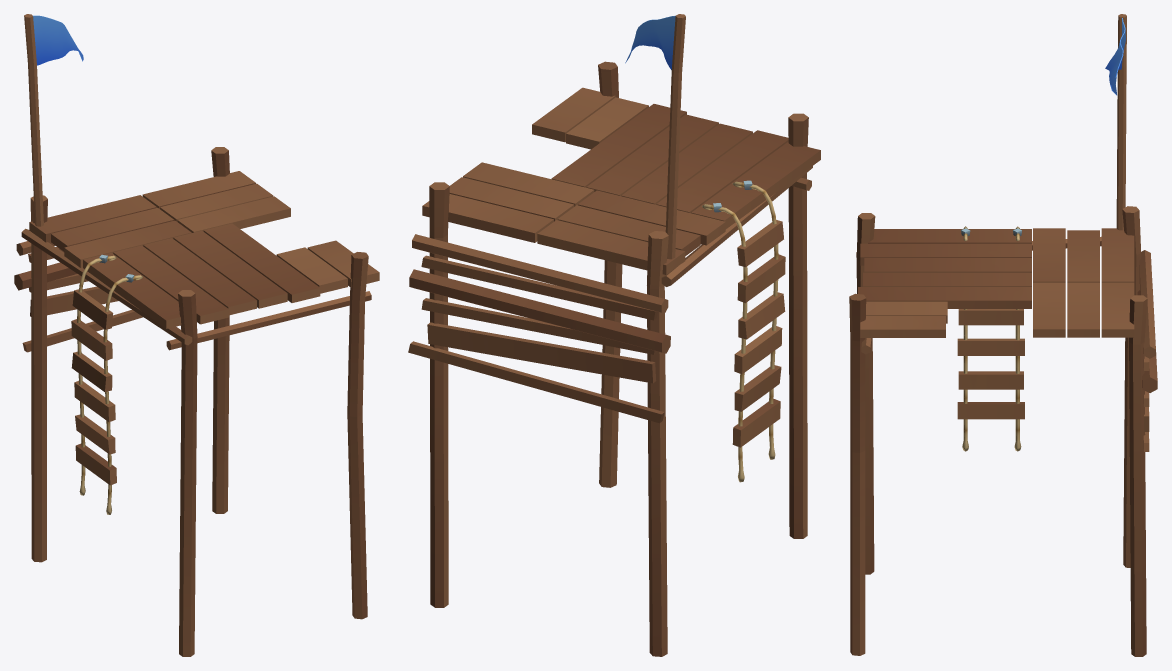
The model's file is Dock-zone.fbx.
The picture shows the model from 3 angles, left to right: view 1: azimuth 30°, elevation 25°; view 2: azimuth 150°, elevation 25°; view 3: azimuth 270°, elevation 25°; orthographic projection. The views are drawn at different scales.
Parts seen in each view (by area): view 1: Dock-Zone-1, Dock-Zone-1.002; view 2: Dock-Zone-1, Dock-Zone-1.002; view 3: Dock-Zone-1, Dock-Zone-1.002.
Part boxes in pixels (left/top/right/bottom): Dock-Zone-1: left=14, top=147, right=379, bottom=656; Dock-Zone-1.002: left=24, top=14, right=83, bottom=226; Dock-Zone-1: left=408, top=61, right=820, bottom=656; Dock-Zone-1.002: left=625, top=14, right=685, bottom=259; Dock-Zone-1: left=849, top=206, right=1157, bottom=656; Dock-Zone-1.002: left=1105, top=14, right=1126, bottom=230.
Size of the model in its own units: 2.64 by 6.07 by 3.13.
